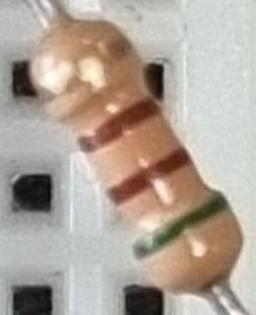Brown: (107, 147, 194, 209), (76, 95, 160, 157)
Green: (129, 191, 230, 263)
Side-Gold: (33, 29, 136, 110)
